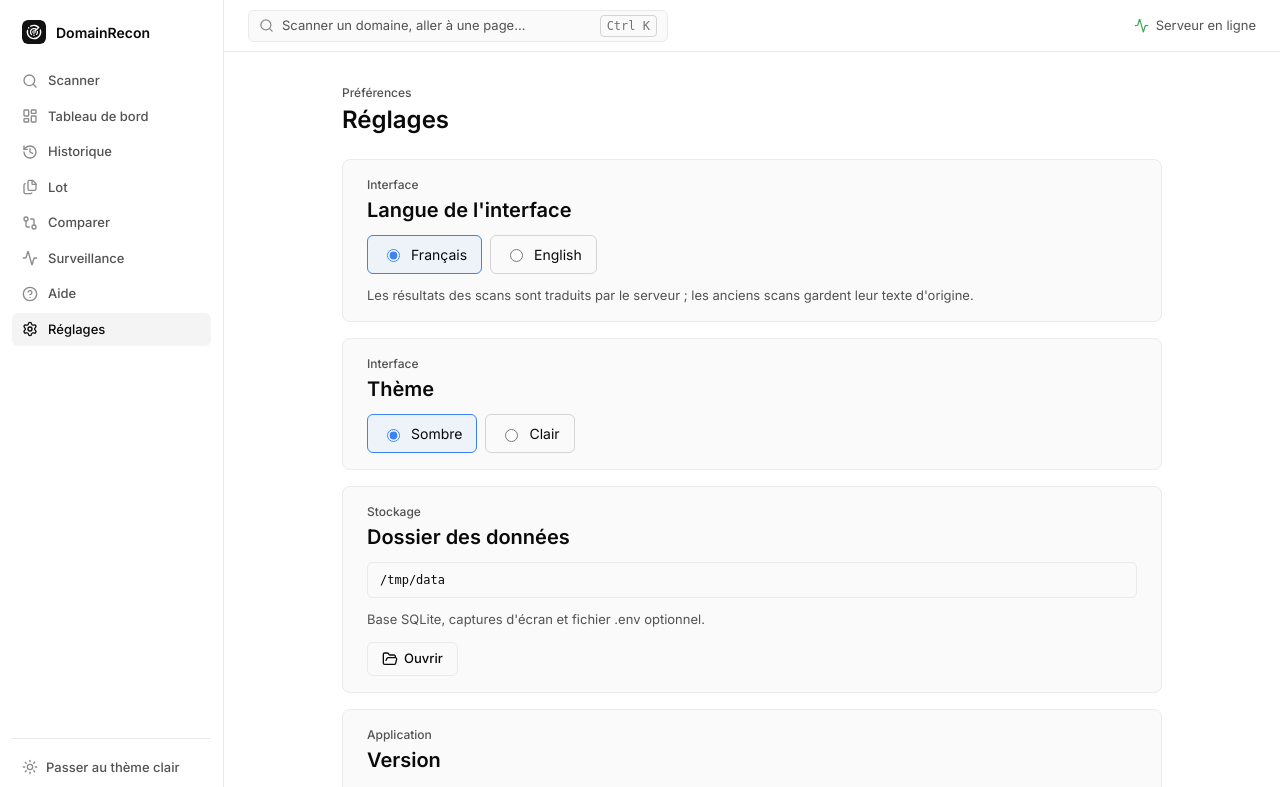
it: coquille de l'application › déplace le focus sur le contenu à chaque changement d'écran
Click the link "Historique": (67, 151) [22,143,112,160]
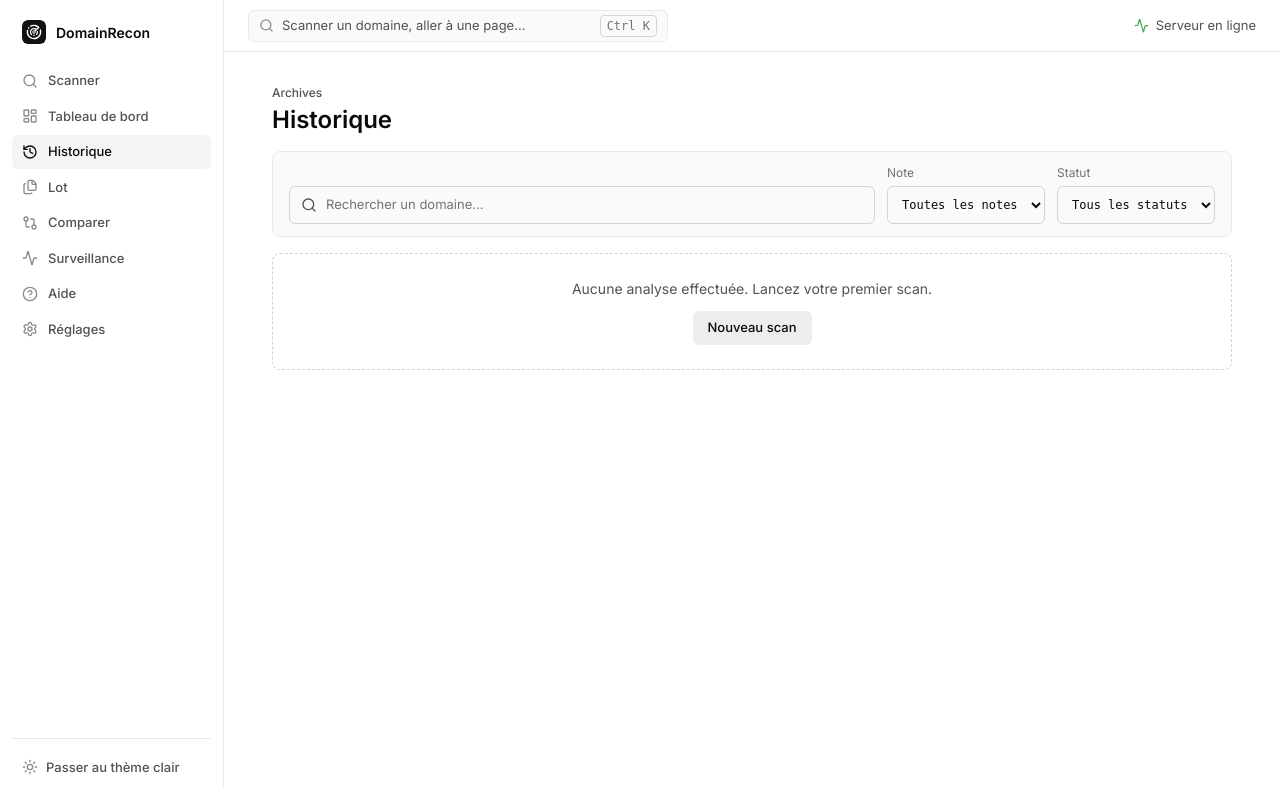
expect the heading "Historique" is shown: met, box [272,105,392,134]
